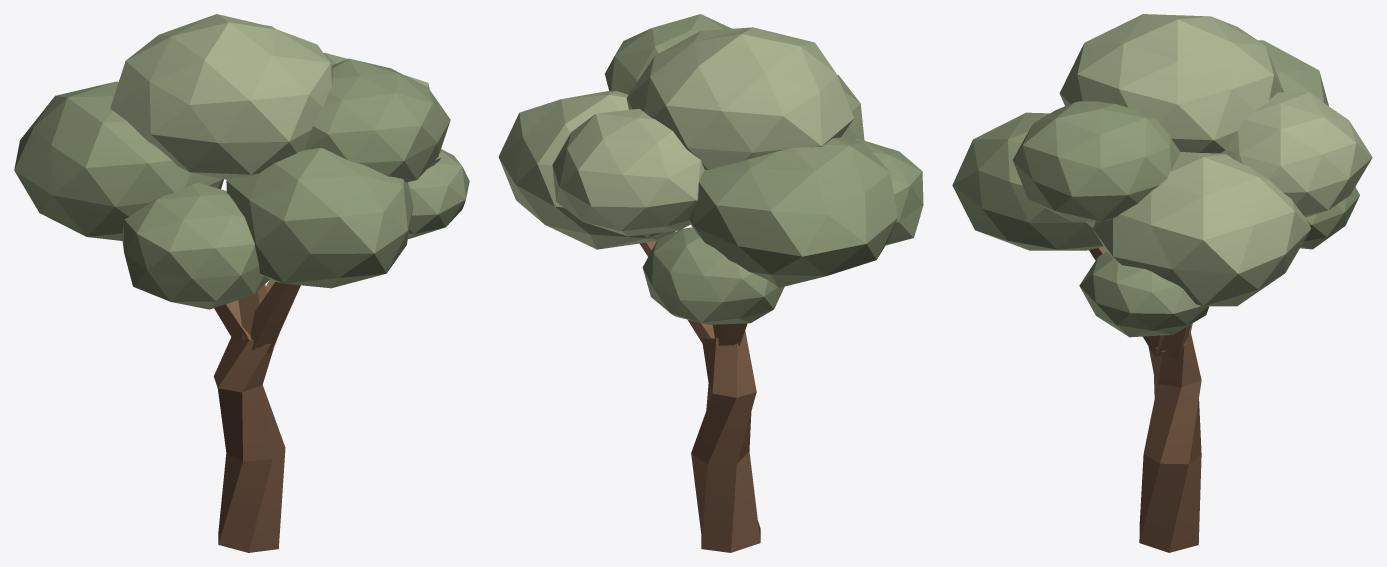
The model's file is olive.glb.
The picture shows the model from 3 angles, left to right: view 1: azimuth 30°, elevation 25°; view 2: azimuth 150°, elevation 25°; view 3: azimuth 270°, elevation 25°; orthographic projection. The views are drawn at different scales.
Parts seen in each view (by area): view 1: olive.001; view 2: olive.001; view 3: olive.001.
Boxes of the visible parts, x1,y1,x2,y2 form: olive.001: (14,14,469,552); olive.001: (498,14,923,552); olive.001: (952,14,1372,552).
Size of the model in its own units: 2.57 by 3.3 by 2.45.
Materials: 1 (1 with a texture image).
